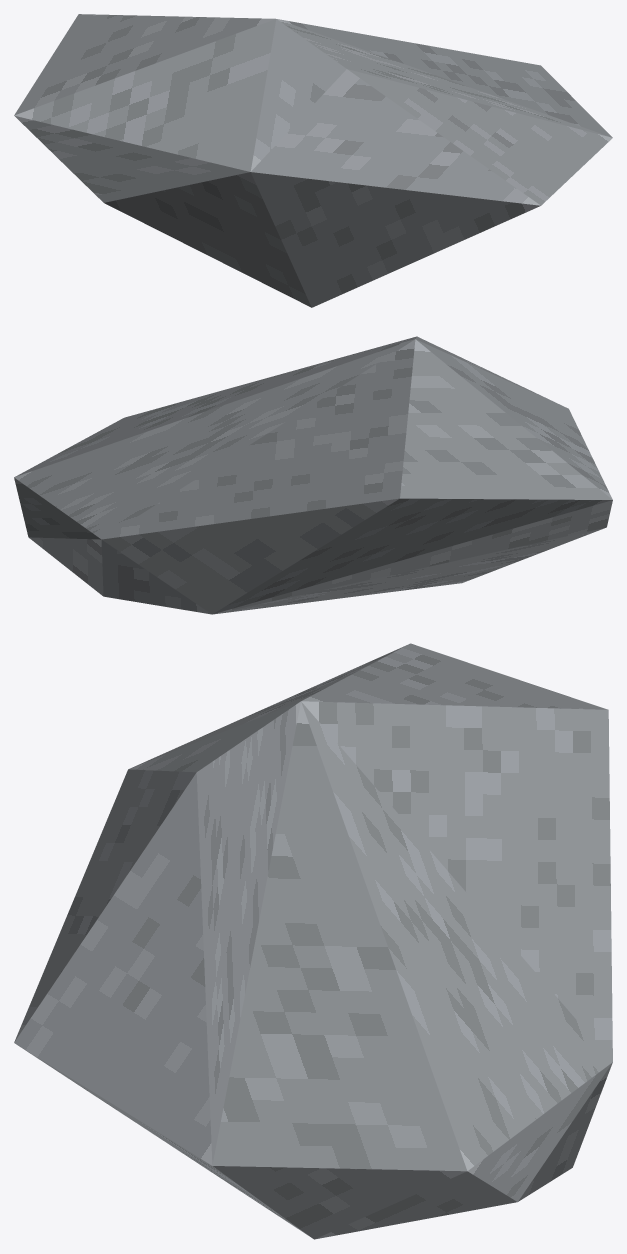
Rendered from lc_steel_chunk.glb.
3 renders of one model, top to bottom at view 1: azimuth 30°, elevation 25°; view 2: azimuth 150°, elevation 25°; view 3: azimuth 270°, elevation 25°, orthographic. The views are drawn at different scales.
Visible parts, largest first — view 1: block_chunk; view 2: block_chunk; view 3: block_chunk.
Boxes of the visible parts, x1,y1,x2,y2 form: block_chunk: (14,14,612,307); block_chunk: (14,336,612,614); block_chunk: (14,643,612,1239).
Bounding box in the file's own units: 0.059 × 0.0267 × 0.0386.
1 material, 1 textured.
